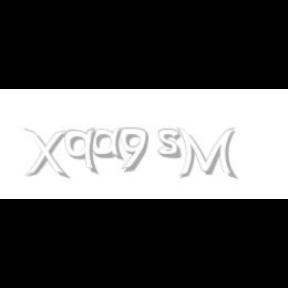9: (120, 128, 148, 172)
M: (176, 128, 236, 180)
X: (23, 128, 67, 180)
a: (92, 128, 128, 160)
q: (64, 128, 100, 176)
s: (158, 128, 186, 160)
